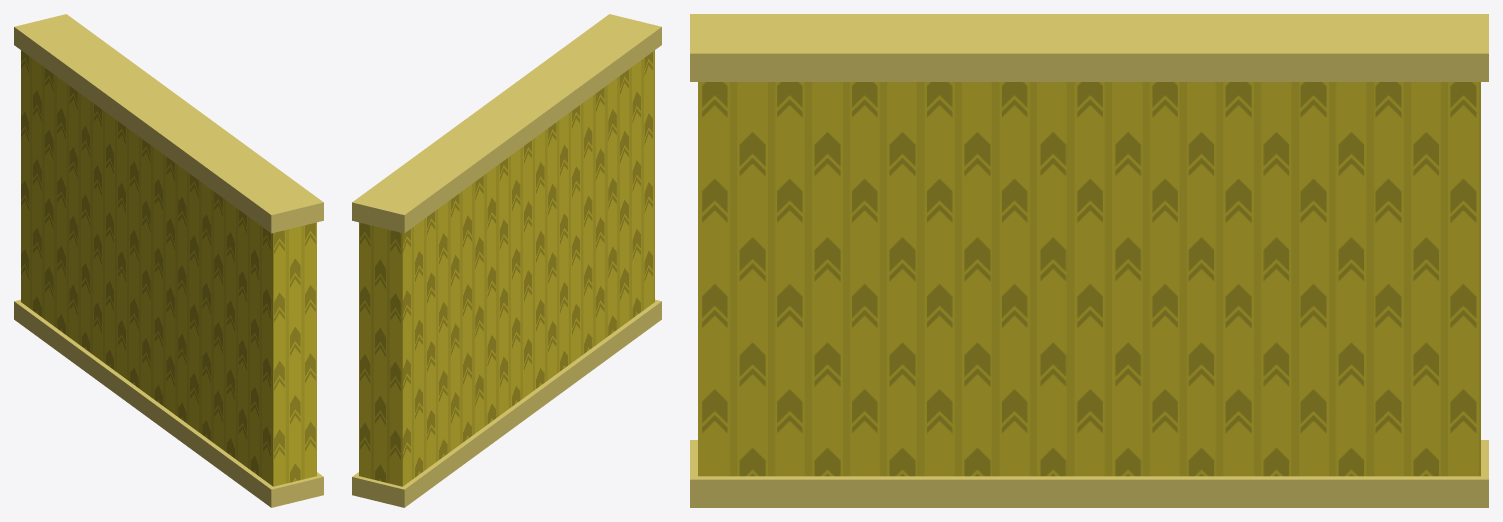
File: oblongPillar.fbx
3 renders of one model, left to right at view 1: azimuth 30°, elevation 25°; view 2: azimuth 150°, elevation 25°; view 3: azimuth 270°, elevation 25°, orthographic. The views are drawn at different scales.
Visible parts, largest first — view 1: Cube, 立方体.001; view 2: Cube, 立方体.001; view 3: Cube, 立方体.001.
Part boxes in pixels (<box>): Cube: <box>21,50,316,486</box>; 立方体.001: <box>14,14,323,507</box>; Cube: <box>359,50,654,486</box>; 立方体.001: <box>352,14,661,507</box>; Cube: <box>698,82,1480,476</box>; 立方体.001: <box>690,14,1488,507</box>.
Size of the model in its own units: 120 by 640 by 1020.
